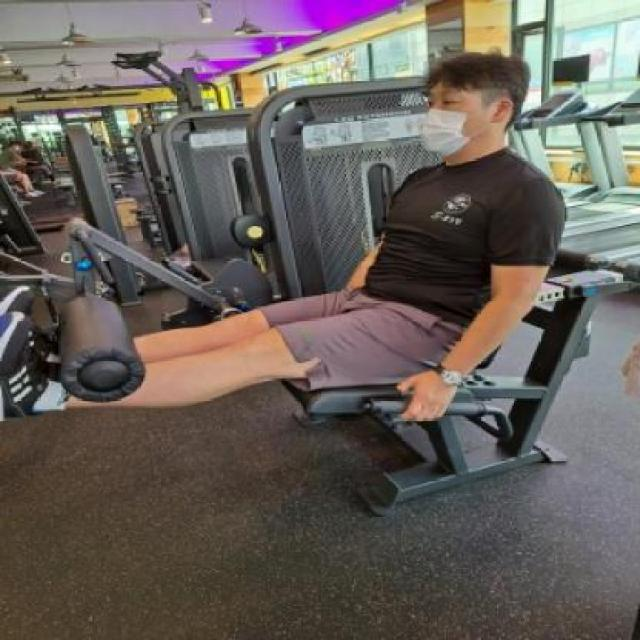leg extension: (0, 39, 640, 523)
